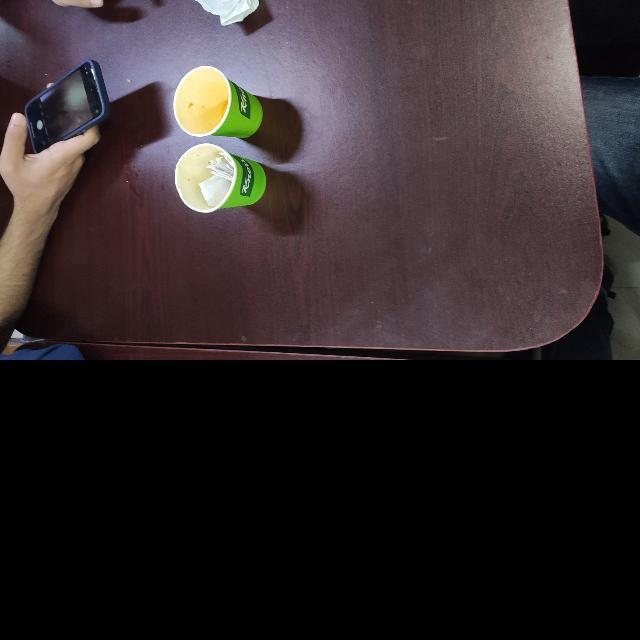kitchen paper: (192, 149, 242, 209), (192, 0, 268, 29)
